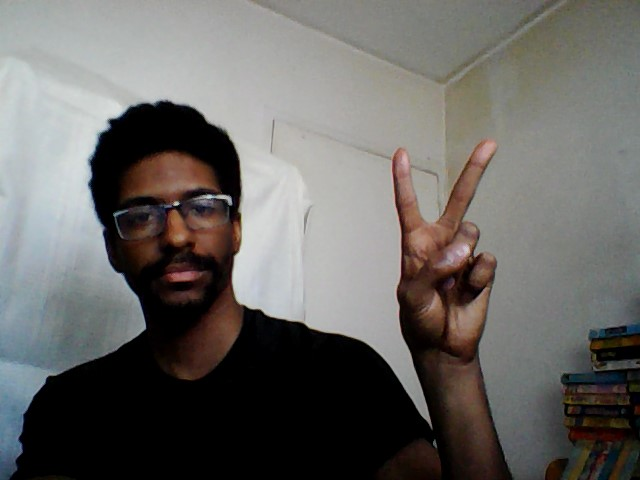v: (388, 136, 500, 360)
